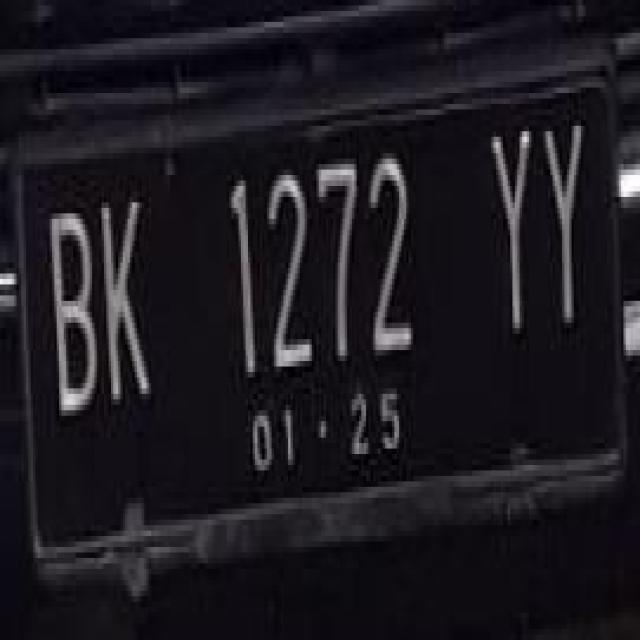1: (221, 163, 267, 396)
2: (358, 132, 424, 366), (255, 148, 318, 391)
7: (310, 143, 368, 375)
B: (40, 191, 106, 442)
K: (95, 176, 159, 425)
Y: (482, 116, 543, 351), (540, 112, 593, 344)
